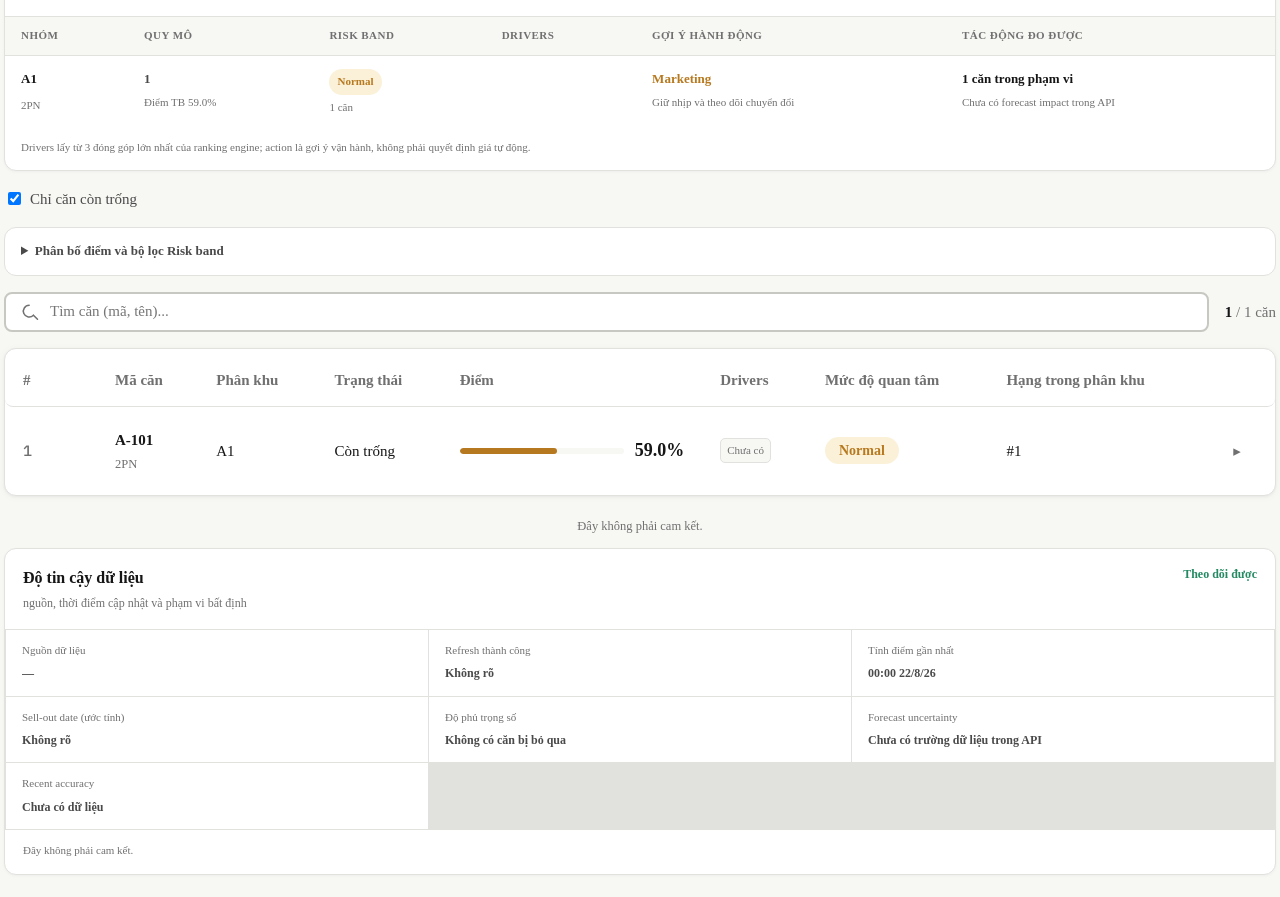
RankingPage — hierarchical disclosure (PR-7) › shows the full-context badge and full detail without claiming a guarantee
(page scrolled)
Click the text "A-101": (640, 451) [5,412,1275,490]
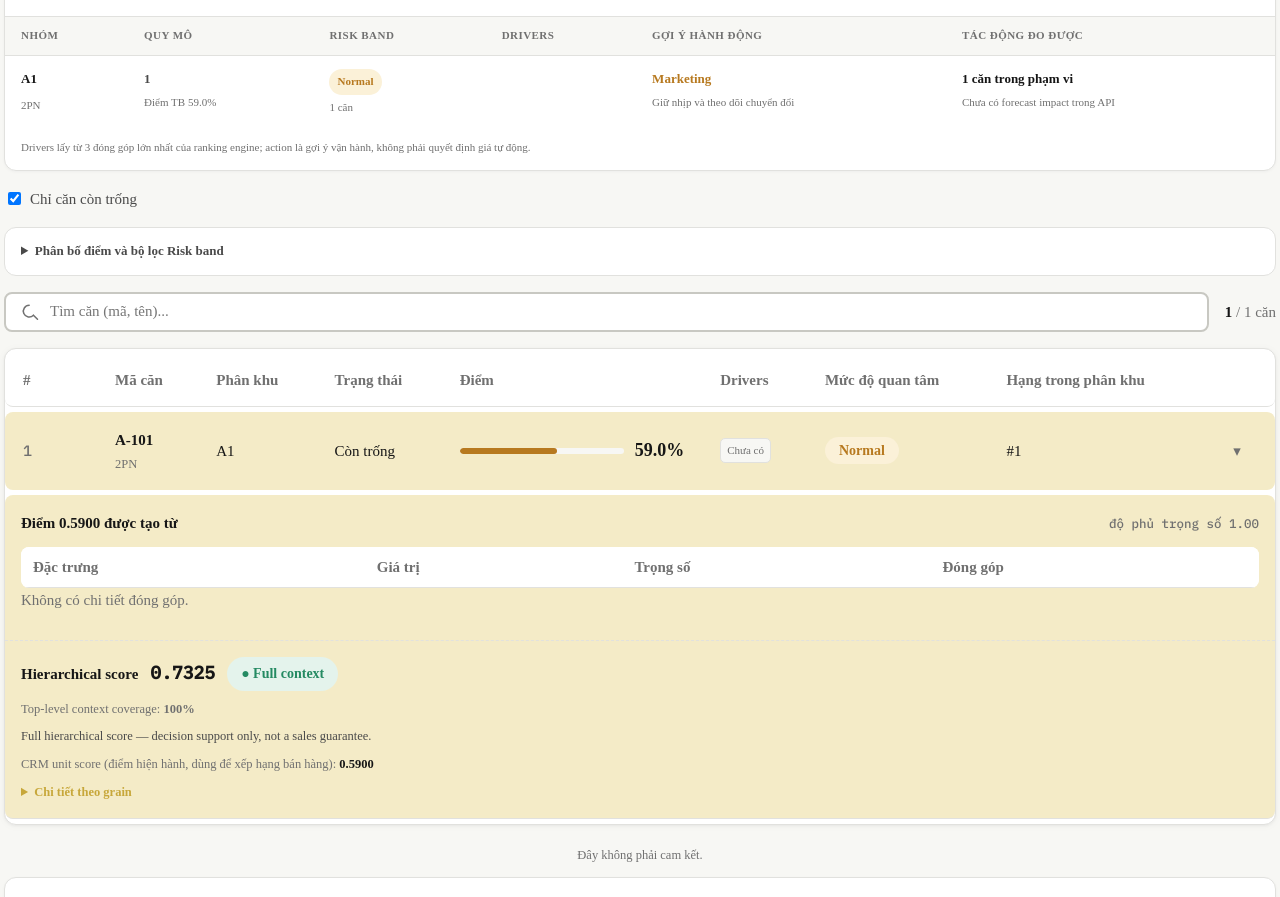
Expected: the text "Full context" is shown, [253,666,324,681]
Expected: the text "Full hierarchical score — decision support only, not a sales guarantee." is shown, [21,729,372,743]
